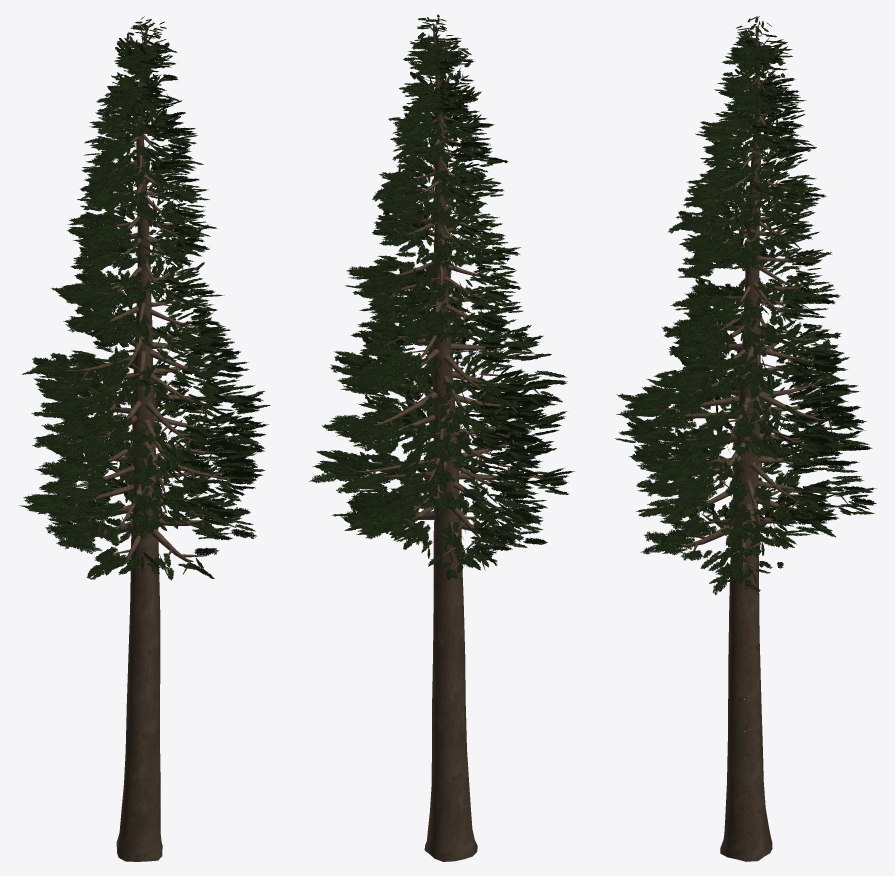
File: pine_tree_003_v2_a_LOD1.gltf
The picture shows the model from 3 angles, left to right: view 1: azimuth 30°, elevation 25°; view 2: azimuth 150°, elevation 25°; view 3: azimuth 270°, elevation 25°; orthographic projection.
Visible parts, largest first — view 1: PineTree003_A_LOD1; view 2: PineTree003_A_LOD1; view 3: PineTree003_A_LOD1.
Part boxes in pixels (<box>): PineTree003_A_LOD1: <box>19,16,270,861</box>; PineTree003_A_LOD1: <box>309,14,574,861</box>; PineTree003_A_LOD1: <box>615,16,876,861</box>.
Bounding box in the file's own units: 8.55 × 28.84 × 8.48.
Materials: 2 (2 with a texture image).
